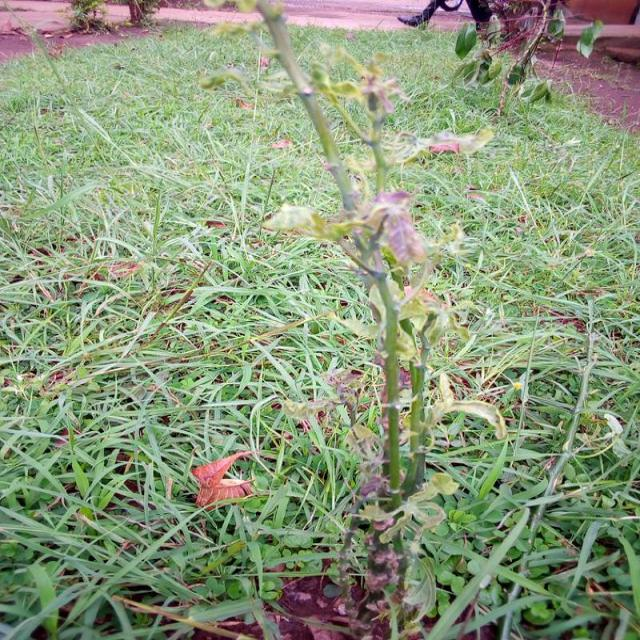cassava leaf: (190, 448, 255, 511)
